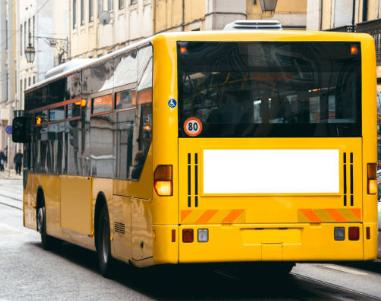vehicle: (13, 20, 379, 278)
